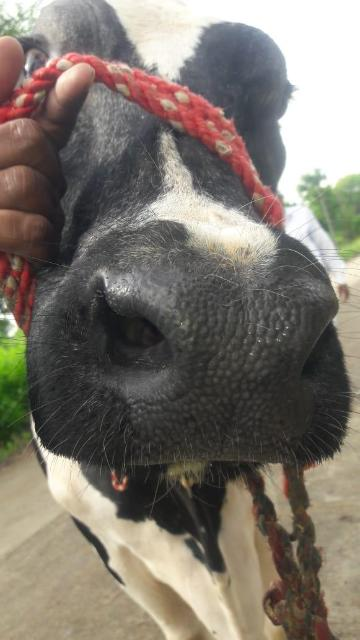Muzzle: (107, 282, 312, 448)
